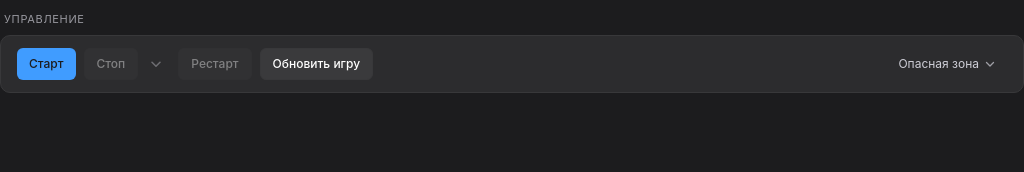
Test: ServerControls › shows a network failure instead of leaking an unhandled rejection
The width and height of the screenshot is (1024, 172).
Click the button "Старт".
click(46, 64)  # box [17, 48, 76, 80]
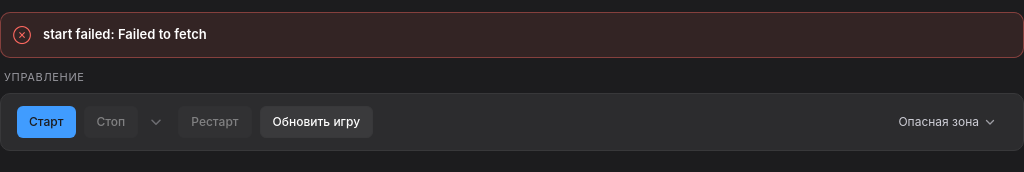
Check: the text "start failed: Failed to fetch" is shown, box [43, 26, 207, 42]
